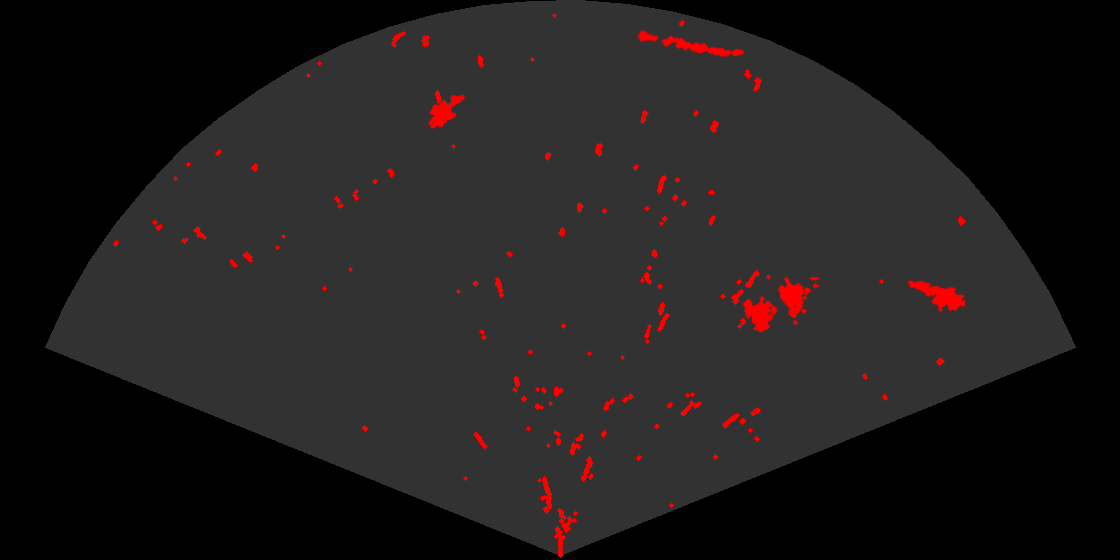AUV: (427, 93, 466, 130)
cage: (741, 275, 819, 334)
chain: (636, 28, 746, 59)
frogman: (906, 279, 965, 314)
